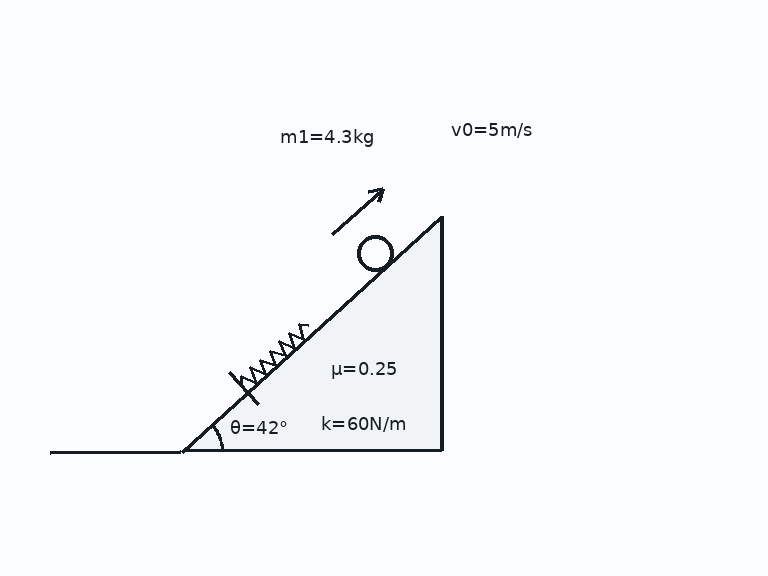ball: (355, 233, 395, 273)
ramp: (180, 215, 443, 453)
spring: (239, 322, 310, 388)
